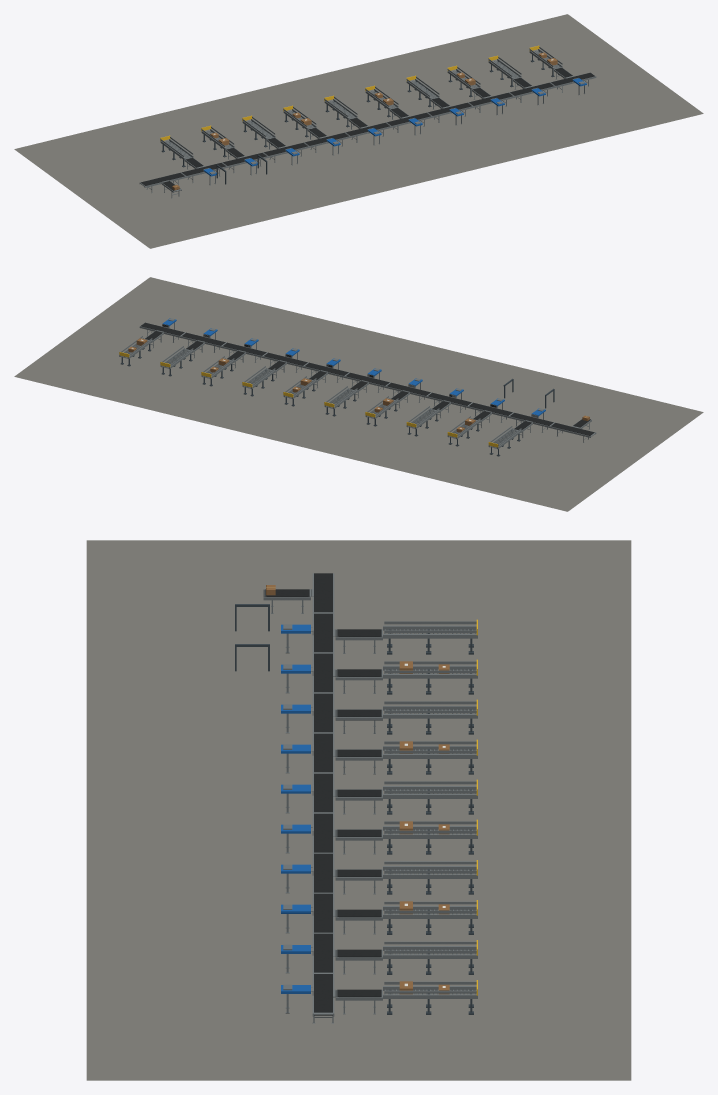
The picture shows the model from 3 angles, top to bottom: view 1: azimuth 30°, elevation 25°; view 2: azimuth 150°, elevation 25°; view 3: azimuth 270°, elevation 25°; orthographic projection. The views are drawn at different scales.
Visible parts, largest first — view 1: Studio ground, Outfeed side beams, Outfeed containment guides, Outfeed roller beds, Outfeed legs and footplates, Illustrative accumulated cartons, End guard bars; view 2: Studio ground, Outfeed side beams, Outfeed containment guides, Outfeed legs and footplates, Outfeed roller beds, Illustrative accumulated cartons, End guard bars; view 3: Studio ground, Outfeed side beams, Outfeed containment guides, Outfeed legs and footplates, Outfeed roller beds, Illustrative accumulated cartons.
Boxes of the visible parts, x1,y1,x2,y2 form: Studio ground: [14, 14, 703, 248]; Outfeed side beams: [160, 49, 562, 159]; Outfeed containment guides: [160, 46, 562, 156]; Outfeed roller beds: [165, 50, 561, 159]; Outfeed legs and footplates: [161, 51, 559, 167]; Illustrative accumulated cartons: [210, 52, 557, 145]; End guard bars: [160, 45, 539, 140]; Studio ground: [14, 277, 703, 511]; Outfeed side beams: [119, 337, 521, 449]; Outfeed containment guides: [121, 336, 521, 446]; Outfeed legs and footplates: [120, 344, 520, 456]; Outfeed roller beds: [120, 340, 517, 448]; Illustrative accumulated cartons: [128, 338, 475, 432]; End guard bars: [119, 352, 498, 447]; Studio ground: [86, 540, 631, 1080]; Outfeed side beams: [383, 625, 477, 998]; Outfeed containment guides: [384, 621, 476, 993]; Outfeed legs and footplates: [387, 629, 473, 1014]; Outfeed roller beds: [384, 629, 476, 994]; Illustrative accumulated cartons: [399, 661, 449, 994].
Bounding box in the file's own units: 54 × 2.14 × 23.
13 materials, 8 textured.
